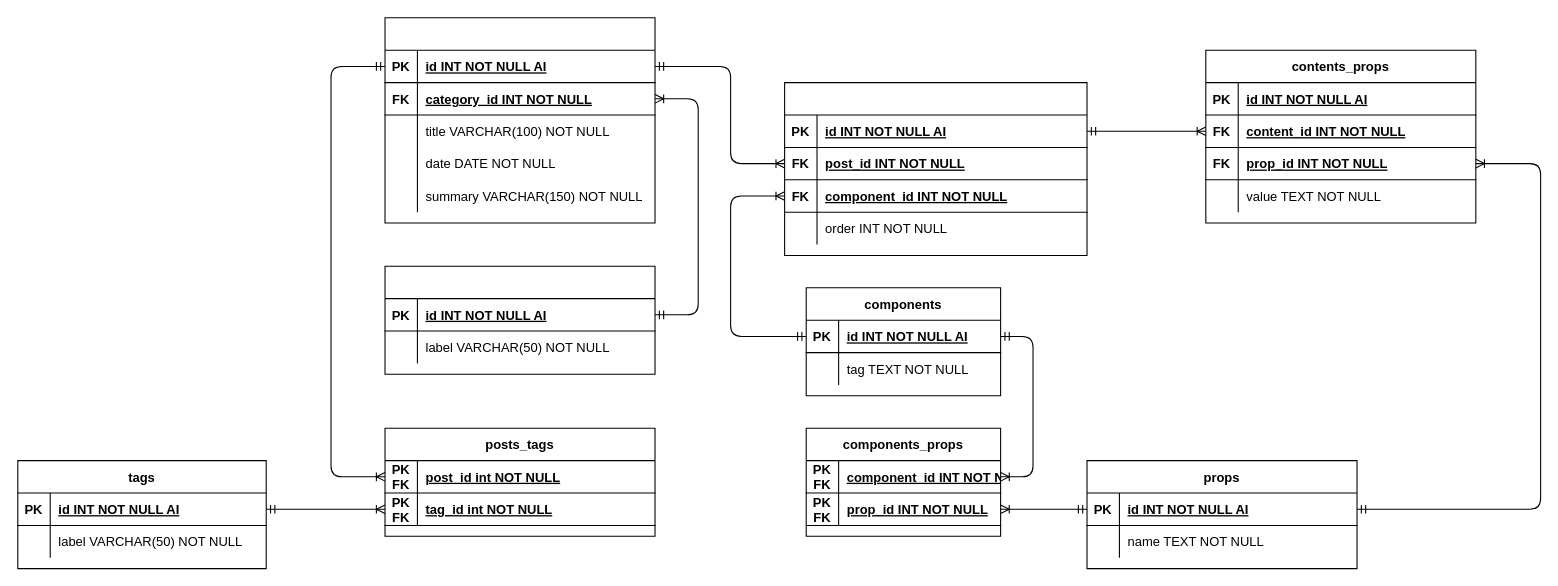
Image size: 1558x586. Some labels were removed from this diagram. The shapes that lost their labels are listed below. From the top down, each one's box as (x1, y1, x2, y2) in pixels, then its label:
(384, 17, 655, 223): posts
(784, 82, 1087, 255): contents
(384, 265, 655, 374): categories
